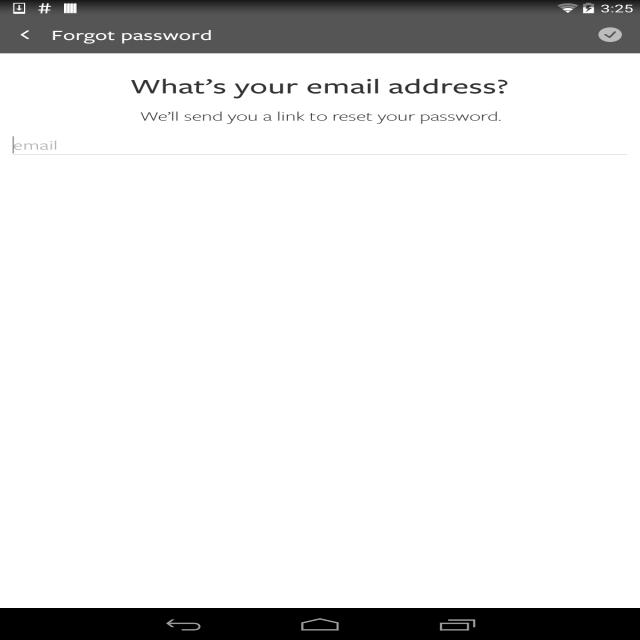CheckedTextView: (592, 24, 629, 46)
EditText: (1, 130, 640, 161)
ImageButton: (15, 26, 38, 44)
TextView: (122, 73, 522, 98), (135, 105, 510, 126), (43, 24, 222, 44)
